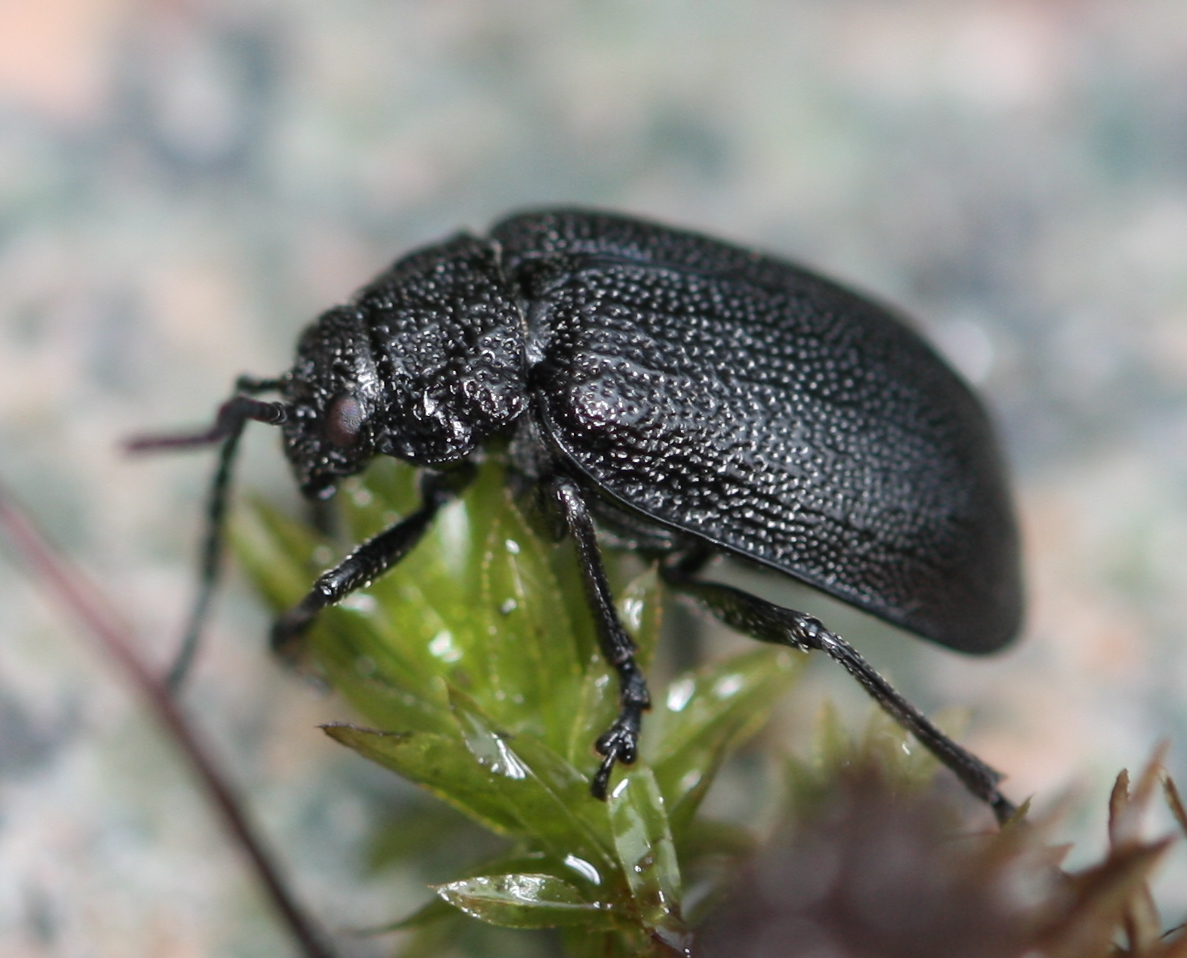Galeruca_tanaceti: (103, 189, 1043, 855)
